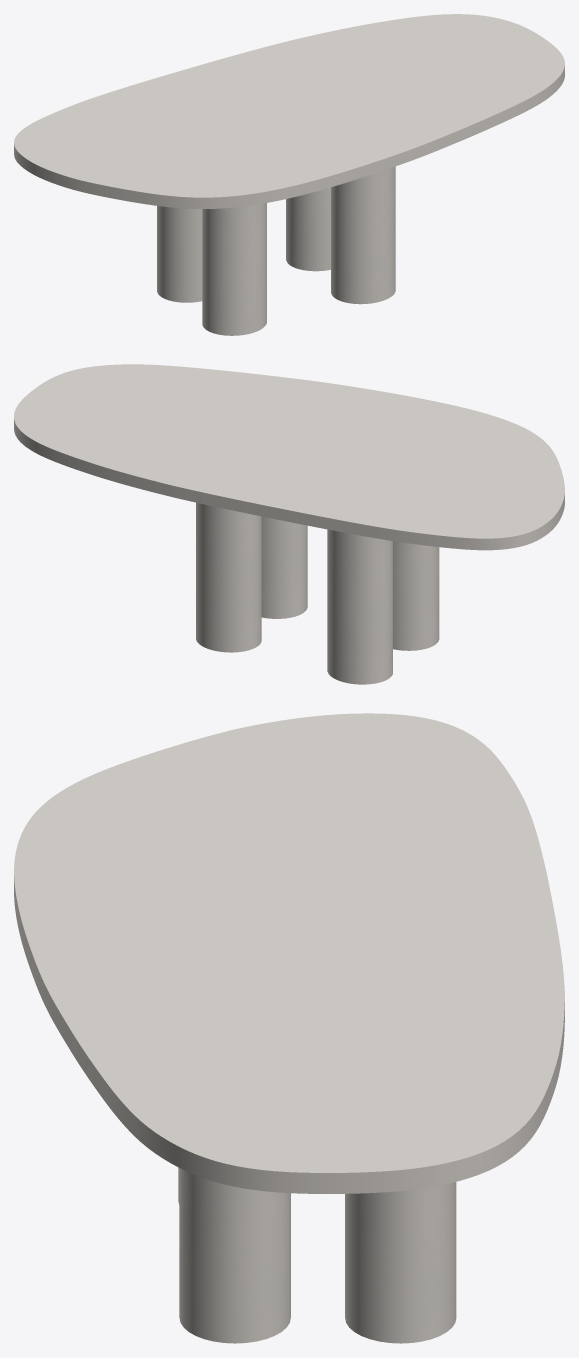
The model's file is pearlwhite_leaf2_standard_grove.glb.
The picture shows the model from 3 angles, top to bottom: view 1: azimuth 30°, elevation 25°; view 2: azimuth 150°, elevation 25°; view 3: azimuth 270°, elevation 25°; orthographic projection. The views are drawn at different scales.
Visible parts, largest first — view 1: standard_leaf2, grove; view 2: standard_leaf2, grove; view 3: standard_leaf2, grove.
Part boxes in pixels (<box>): standard_leaf2: <box>14,14,564,208</box>; grove: <box>157,166,395,335</box>; standard_leaf2: <box>14,364,564,550</box>; grove: <box>196,502,439,684</box>; standard_leaf2: <box>14,713,564,1193</box>; grove: <box>178,1167,456,1343</box>.
Bounding box in the file's own units: 7.5 × 2.53 × 3.8.
1 material, 1 textured.
